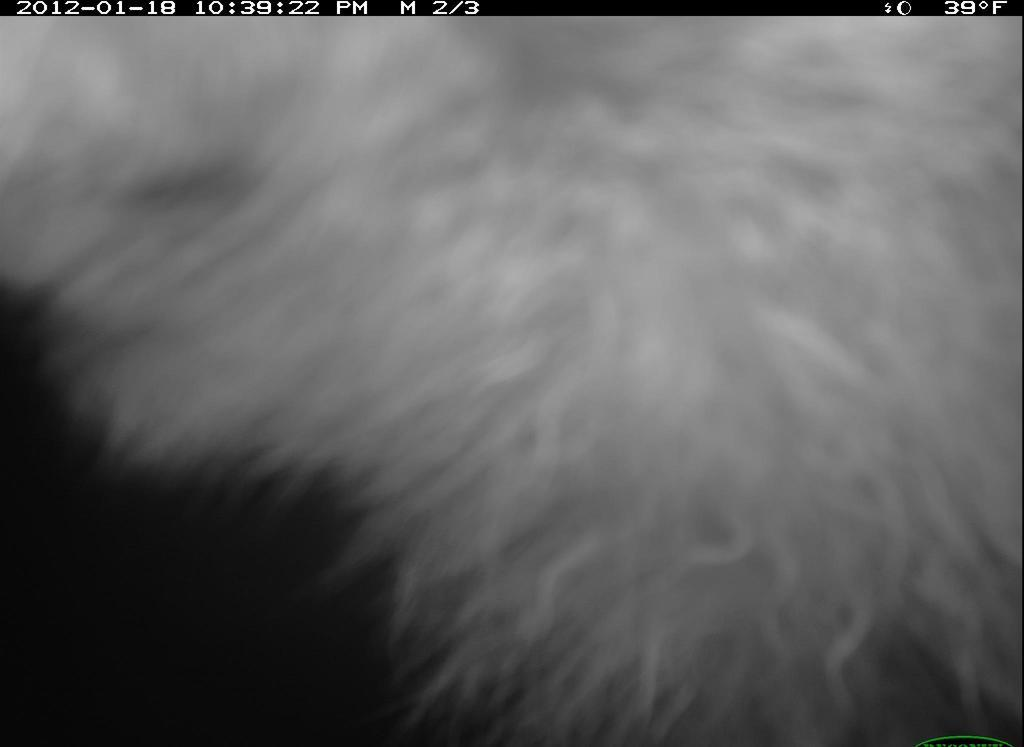raccoon: (3, 15, 1021, 747)
